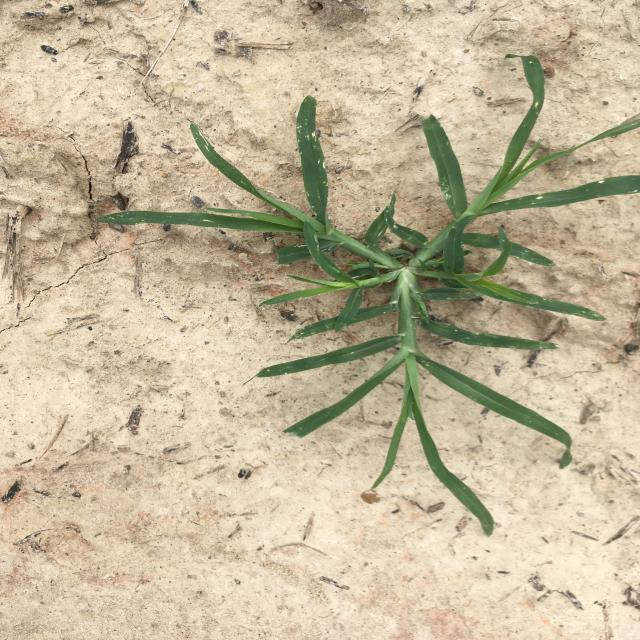Goosegrass: (95, 54, 640, 535)
